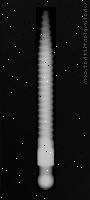3M ESPE: (36, 7, 56, 189)
